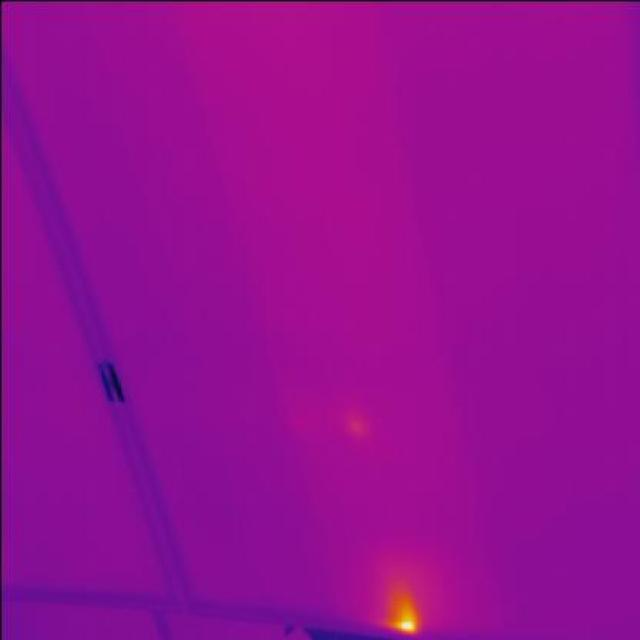hotspot: (375, 594, 434, 632)
